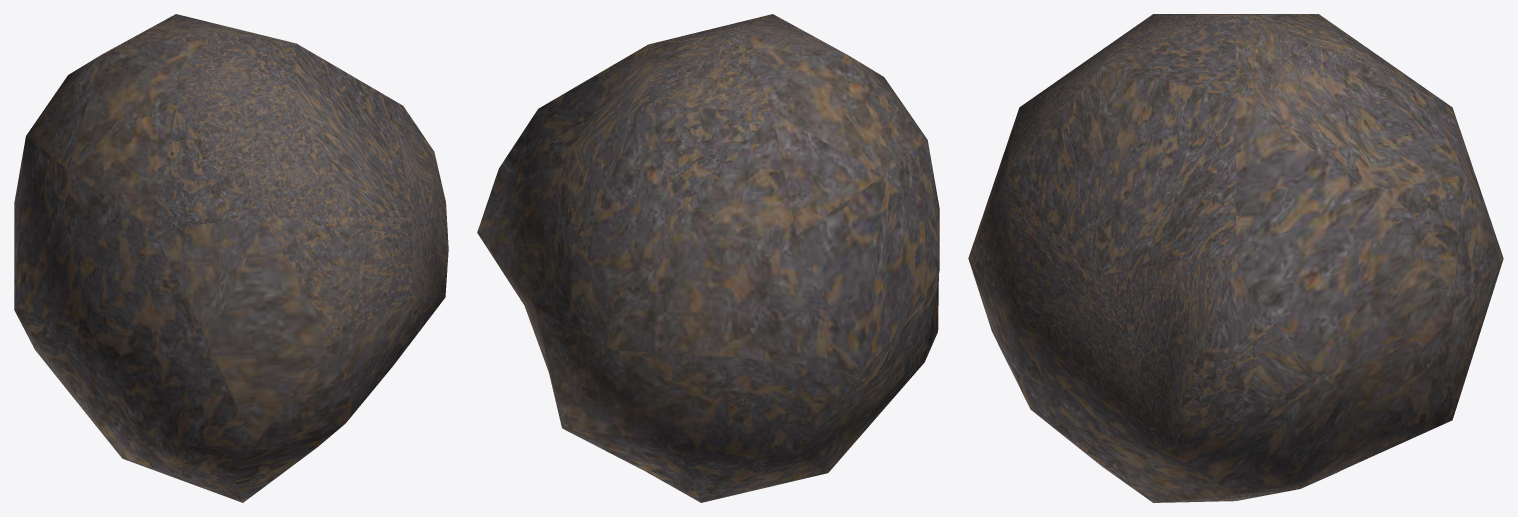
The model's file is asteroid4.glb.
The picture shows the model from 3 angles, left to right: view 1: azimuth 30°, elevation 25°; view 2: azimuth 150°, elevation 25°; view 3: azimuth 270°, elevation 25°; orthographic projection. The views are drawn at different scales.
Visible parts, largest first — view 1: Icosphere; view 2: Icosphere; view 3: Icosphere.
Boxes of the visible parts, x1,y1,x2,y2 form: Icosphere: (14,14,448,502); Icosphere: (477,14,939,502); Icosphere: (968,14,1503,502).
Size of the model in its own units: 4.86 by 5.36 by 5.36.
Materials: 1 (1 with a texture image).
